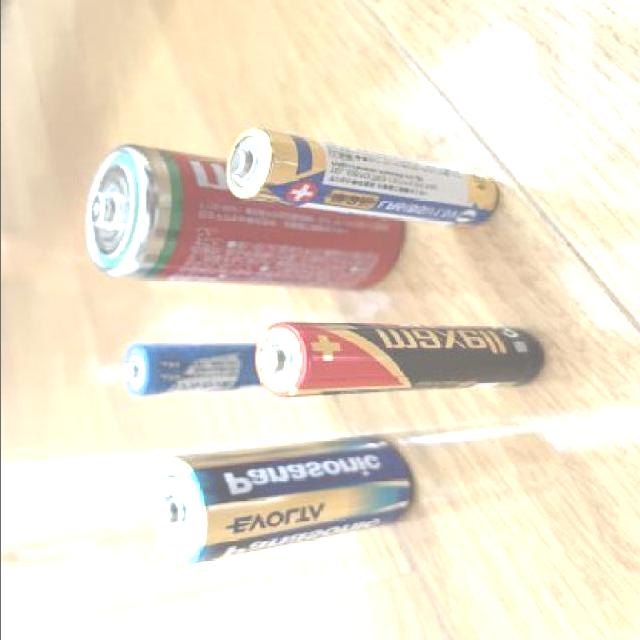AAA: (222, 126, 498, 228), (250, 320, 550, 400), (120, 338, 300, 396)
